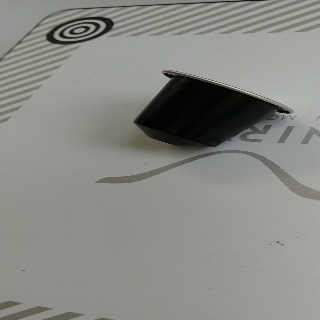capsule_10: (132, 68, 295, 148)
